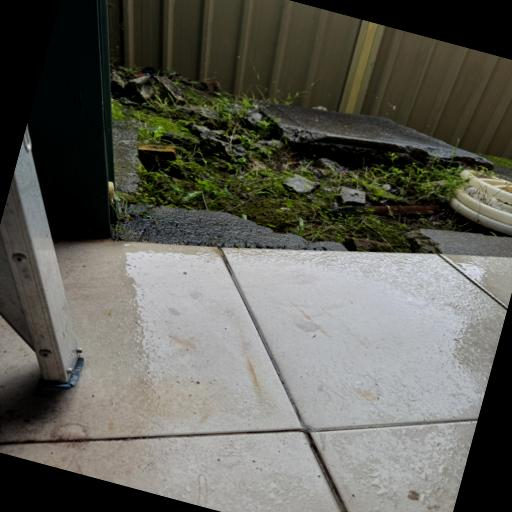gap: (118, 204, 440, 253)
